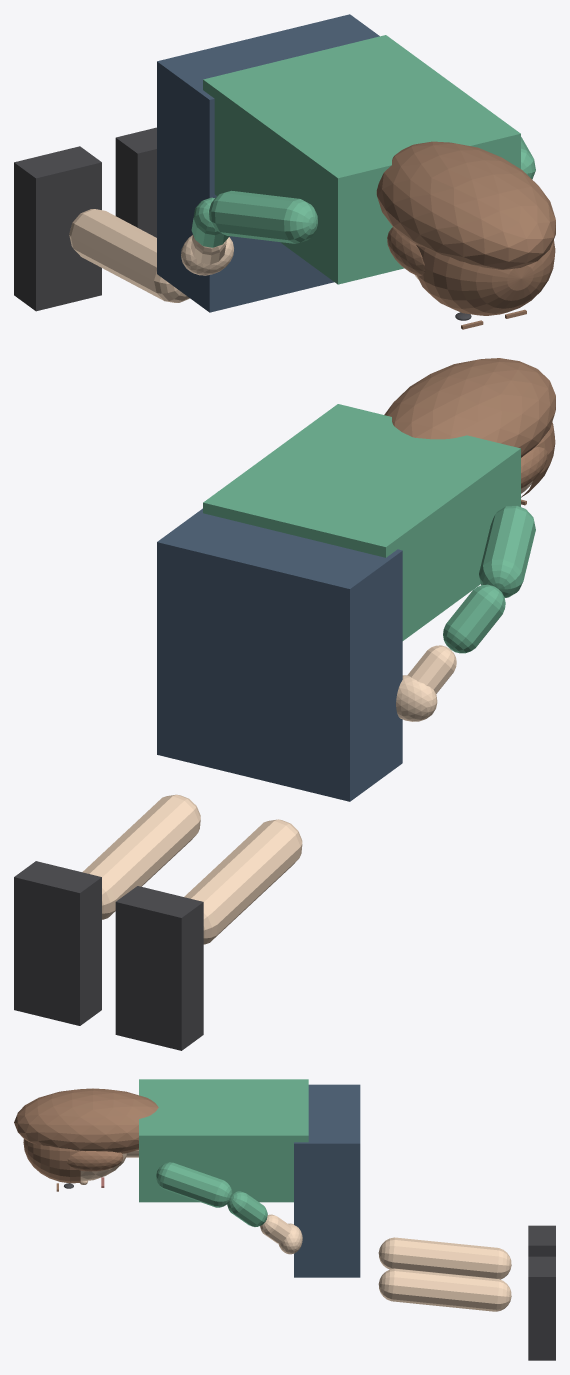
File: CHAR_FEMALE_001_POSE_SIT_001.glb
3 renders of one model, top to bottom at view 1: azimuth 30°, elevation 25°; view 2: azimuth 150°, elevation 25°; view 3: azimuth 270°, elevation 25°, orthographic. The views are drawn at different scales.
Visible parts, largest first — view 1: CHAR_FEMALE_001_torso_jacket, CHAR_FEMALE_001_skirt_seated, CHAR_FEMALE_001_back_hair, CHAR_FEMALE_001_shoe_L, CHAR_FEMALE_001_hair_cap, CHAR_FEMALE_001_calf_L, CHAR_FEMALE_001_upper_arm_L, CHAR_FEMALE_001_shoe_R, CHAR_FEMALE_001_hair_side_L, CHAR_FEMALE_001_forearm_L, CHAR_FEMALE_001_hand_L, CHAR_FEMALE_001_wrist_L; view 2: CHAR_FEMALE_001_skirt_seated, CHAR_FEMALE_001_torso_jacket, CHAR_FEMALE_001_shoe_L, CHAR_FEMALE_001_shoe_R, CHAR_FEMALE_001_back_hair, CHAR_FEMALE_001_calf_L, CHAR_FEMALE_001_calf_R, CHAR_FEMALE_001_upper_arm_L, CHAR_FEMALE_001_forearm_L, CHAR_FEMALE_001_hand_L, CHAR_FEMALE_001_wrist_L; view 3: CHAR_FEMALE_001_torso_jacket, CHAR_FEMALE_001_skirt_seated, CHAR_FEMALE_001_back_hair, CHAR_FEMALE_001_calf_R, CHAR_FEMALE_001_calf_L, CHAR_FEMALE_001_shoe_R, CHAR_FEMALE_001_upper_arm_R, CHAR_FEMALE_001_hair_cap, CHAR_FEMALE_001_forearm_R, CHAR_FEMALE_001_hair_side_R, CHAR_FEMALE_001_shoe_L, CHAR_FEMALE_001_wrist_R (+1 smaller).
Part boxes in pixels (x1,y1,x2,y2): CHAR_FEMALE_001_torso_jacket: (203,35,520,284); CHAR_FEMALE_001_skirt_seated: (157,14,379,312); CHAR_FEMALE_001_back_hair: (376,141,555,269); CHAR_FEMALE_001_shoe_L: (14,146,101,311); CHAR_FEMALE_001_hair_cap: (416,240,555,315); CHAR_FEMALE_001_calf_L: (69,209,189,302); CHAR_FEMALE_001_upper_arm_L: (209,190,317,243); CHAR_FEMALE_001_shoe_R: (115,127,156,237); CHAR_FEMALE_001_hair_side_L: (387,227,425,276); CHAR_FEMALE_001_forearm_L: (191,197,229,247); CHAR_FEMALE_001_hand_L: (181,235,233,275); CHAR_FEMALE_001_wrist_L: (191,235,226,264); CHAR_FEMALE_001_skirt_seated: (157,508,402,801); CHAR_FEMALE_001_torso_jacket: (203,404,520,640); CHAR_FEMALE_001_shoe_L: (115,886,203,1050); CHAR_FEMALE_001_shoe_R: (14,861,101,1025); CHAR_FEMALE_001_back_hair: (384,358,555,457); CHAR_FEMALE_001_calf_L: (184,819,302,944); CHAR_FEMALE_001_calf_R: (82,794,200,919); CHAR_FEMALE_001_upper_arm_L: (479,505,535,597); CHAR_FEMALE_001_forearm_L: (443,584,505,653); CHAR_FEMALE_001_hand_L: (396,675,437,721); CHAR_FEMALE_001_wrist_L: (407,645,456,693); CHAR_FEMALE_001_torso_jacket: (139,1079,308,1202); CHAR_FEMALE_001_skirt_seated: (294,1084,360,1277); CHAR_FEMALE_001_back_hair: (14,1088,158,1153); CHAR_FEMALE_001_calf_R: (378,1268,511,1311); CHAR_FEMALE_001_calf_L: (378,1237,511,1279); CHAR_FEMALE_001_shoe_R: (528,1256,555,1360); CHAR_FEMALE_001_upper_arm_R: (156,1162,232,1207); CHAR_FEMALE_001_hair_cap: (23,1139,80,1183); CHAR_FEMALE_001_forearm_R: (227,1191,267,1226); CHAR_FEMALE_001_hair_side_R: (67,1151,123,1171); CHAR_FEMALE_001_shoe_L: (528,1225,555,1256); CHAR_FEMALE_001_wrist_R: (260,1214,291,1244).
Bounding box in the file's own units: 0.5904 × 0.6965 × 1.43.
